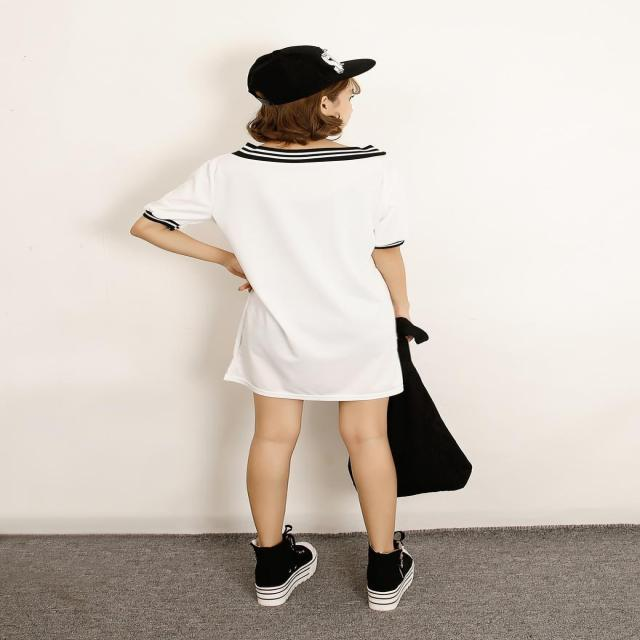short sleeve dress: (142, 145, 412, 401)
